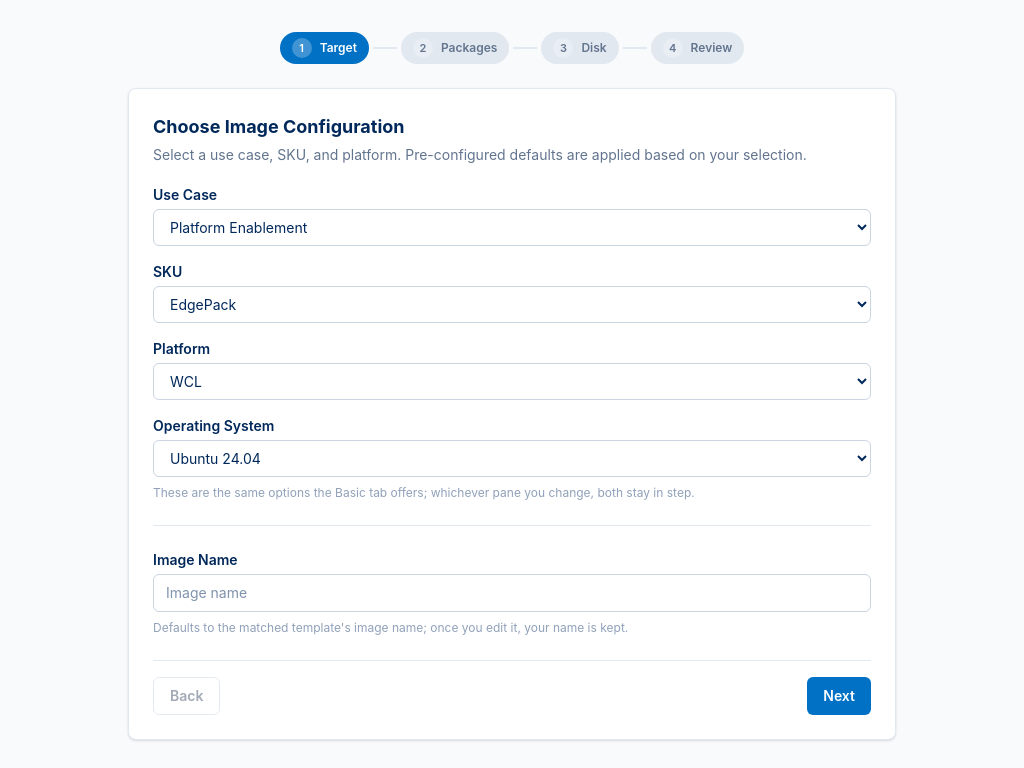
Test case: AdvancedPage review › shows Your changes open and no delta YAML
The width and height of the screenshot is (1024, 768).
Click the button "Next": (839, 696) [807, 677, 871, 715]
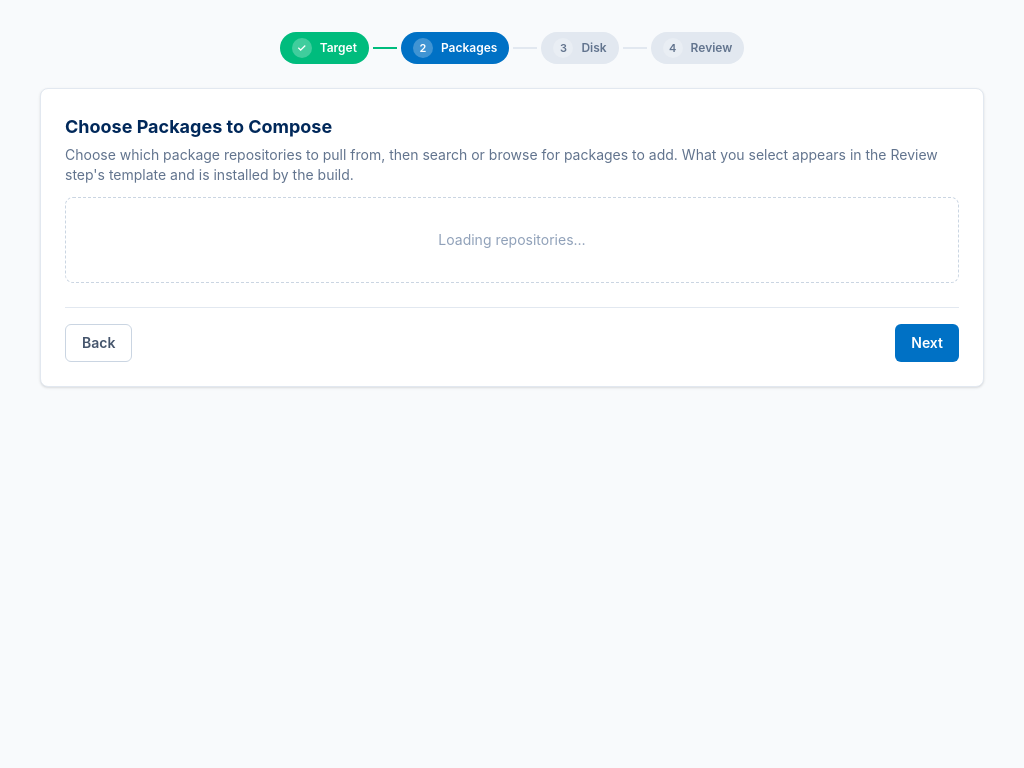
Click the button "Next": (927, 343) [895, 324, 959, 362]
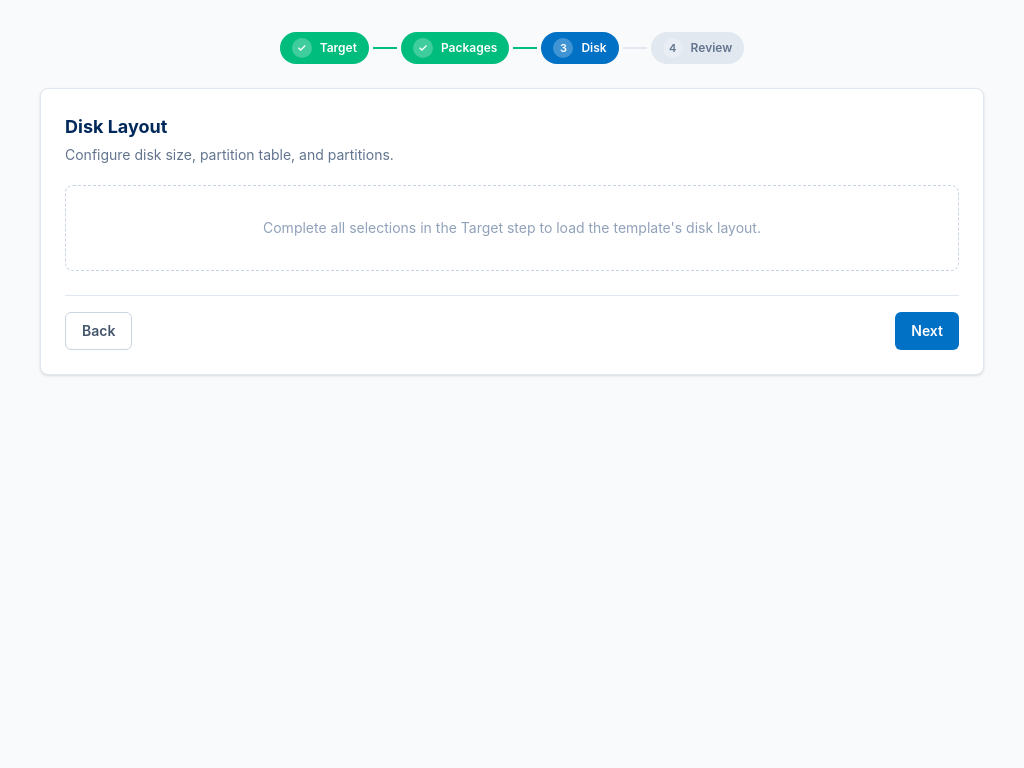
Click the button "Next": (927, 331) [895, 312, 959, 350]
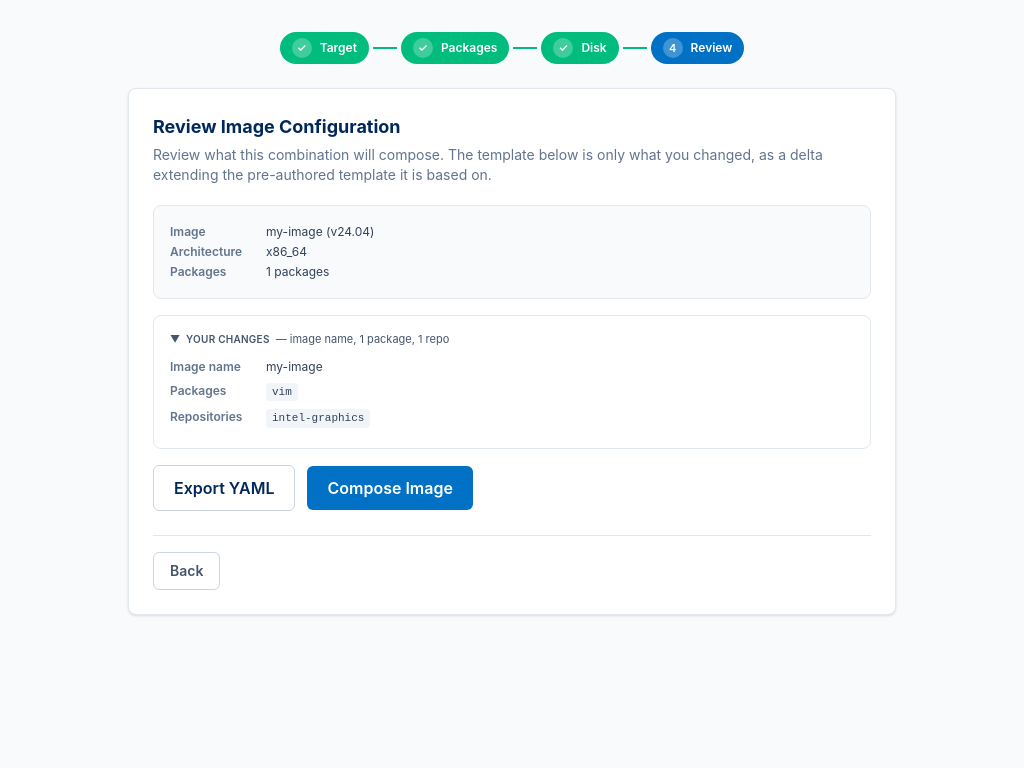
Expected: the text "vim" is shown, [266, 383, 298, 401]
Expected: the text "intel-graphics" is shown, [266, 409, 370, 428]
